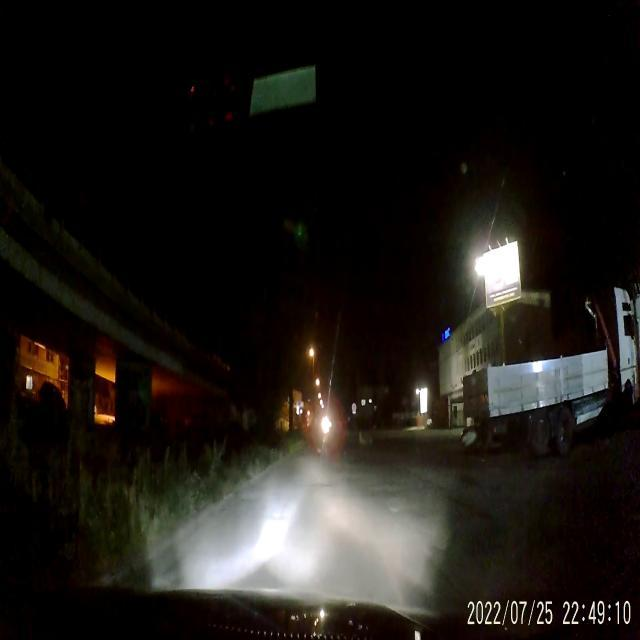Pothole: (386, 502, 401, 514)
